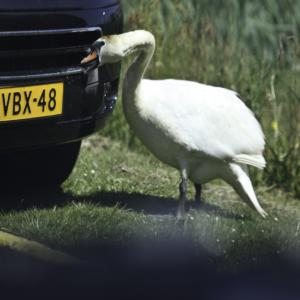Vehicle-registration-plate: (1, 84, 65, 125)
